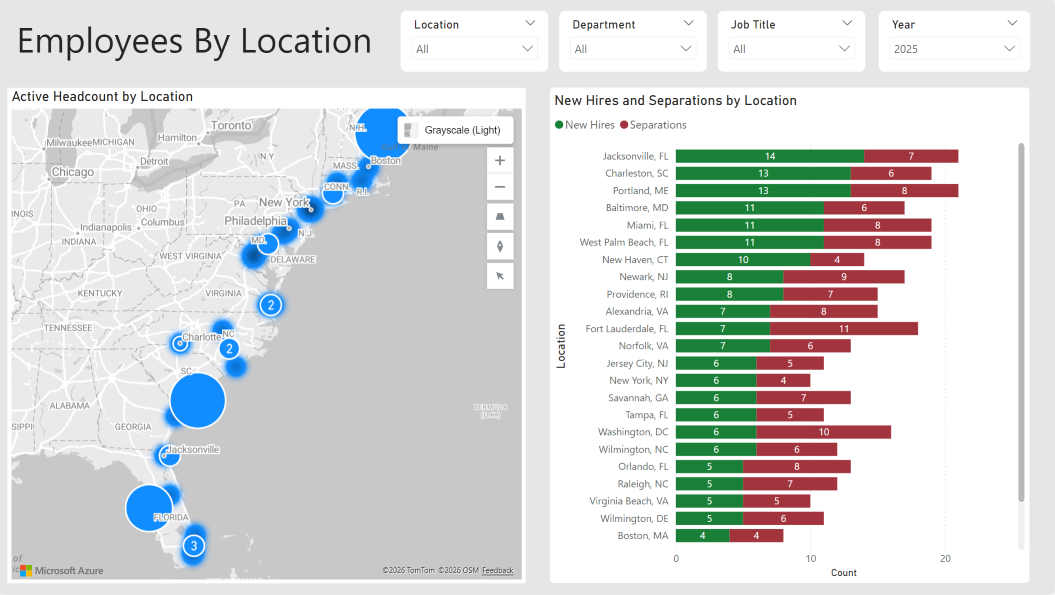

This screenshot's page, from the dashboard's own definition file:
{"tool":"powerbi","page":{"name":"LOCATION","canvas":[1280,720],"ordinal":3},"visuals":[{"type":"textbox","box":[11.7,13.3,453.3,93.3],"z":0},{"type":"slicer","fields":{"Values":["dimDate.Year"]},"box":[1066.7,13.3,185,75],"z":1000},{"type":"slicer","fields":{"Values":["Employees.Job Title"]},"box":[871.7,13.3,180,75],"z":2000},{"type":"slicer","fields":{"Values":["Employees.Department"]},"box":[680,13.3,180,75],"z":3000},{"type":"slicer","fields":{"Values":["Employees.Location"]},"box":[488.3,13.3,180,75],"z":4000},{"type":"azureMap","fields":{"Category":["Employees.Location"],"Size":["*Measures.Active Headcount"]},"box":[12.2,106.7,627.8,600],"z":5000},{"type":"barChart","fields":{"Y":["*Measures.New Hires","*Measures.Terminations"],"Category":["Employees.Location"]},"box":[668.6,105.7,582.9,601.4],"z":6000}]}

Visuals, with their boxes in screenshot pixels (x1, y1, x2, y2), scaled from the page's 1280x720 canvas onto the 1055x595 screenshot:
textbox: <box>10,11,383,88</box>
slicer - dimDate.Year: <box>879,11,1032,73</box>
slicer - Employees.Job Title: <box>718,11,867,73</box>
slicer - Employees.Department: <box>560,11,709,73</box>
slicer - Employees.Location: <box>402,11,551,73</box>
azureMap - Employees.Location x *Measures.Active Headcount: <box>10,88,528,584</box>
barChart - *Measures.New Hires x *Measures.Terminations: <box>551,87,1032,584</box>
